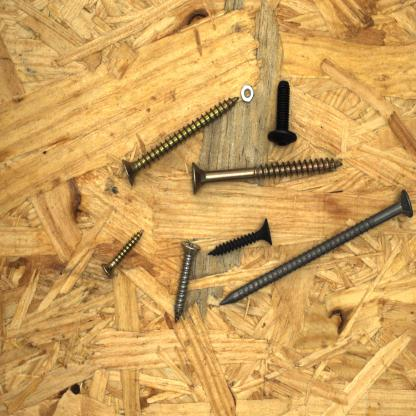screw: (217, 179, 415, 322), (114, 86, 241, 190), (190, 150, 348, 195), (205, 214, 278, 263), (168, 229, 205, 325), (94, 225, 152, 283), (267, 74, 305, 153)
